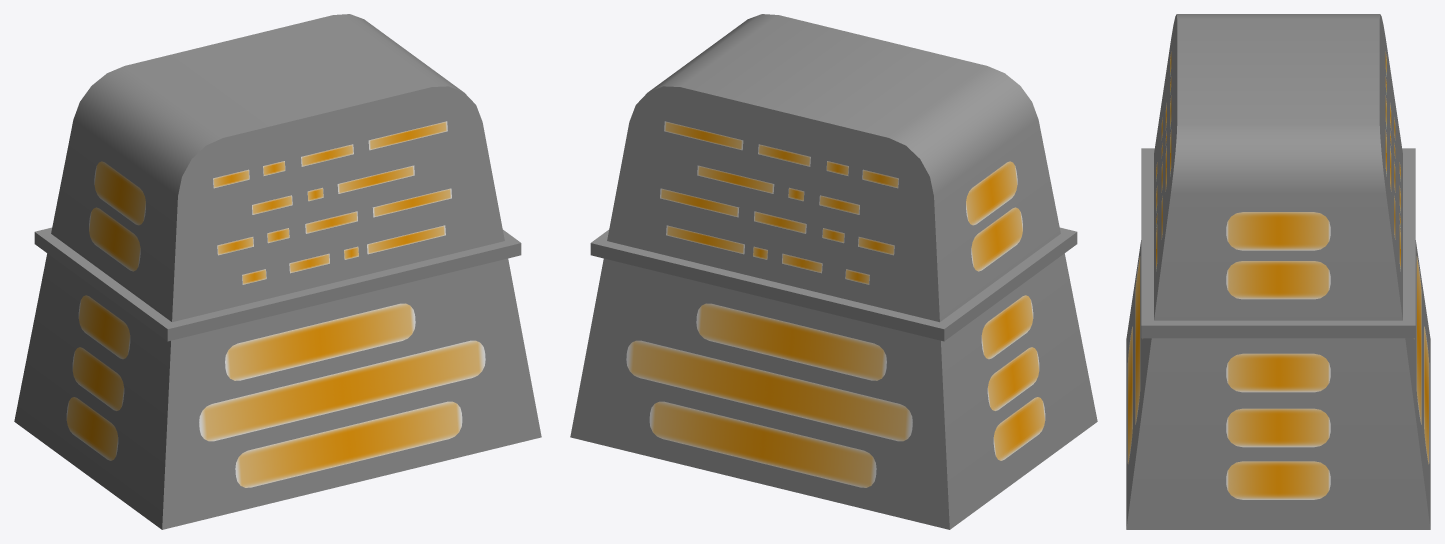
The model's file is Building_029.fbx.
3 views of the same model, side by side, from view 1: azimuth 30°, elevation 25°; view 2: azimuth 150°, elevation 25°; view 3: azimuth 270°, elevation 25° (orthographic). The views are drawn at different scales.
Parts seen in each view (by area): view 1: Building_029; view 2: Building_029; view 3: Building_029.
Boxes of the visible parts, x1=… form: Building_029: x1=14, y1=14, x2=541, y2=529; Building_029: x1=570, y1=14, x2=1097, y2=529; Building_029: x1=1126, y1=14, x2=1430, y2=529.
Bounding box in the file's own units: 30.74 × 27.32 × 20.75.
2 materials, 1 textured.
